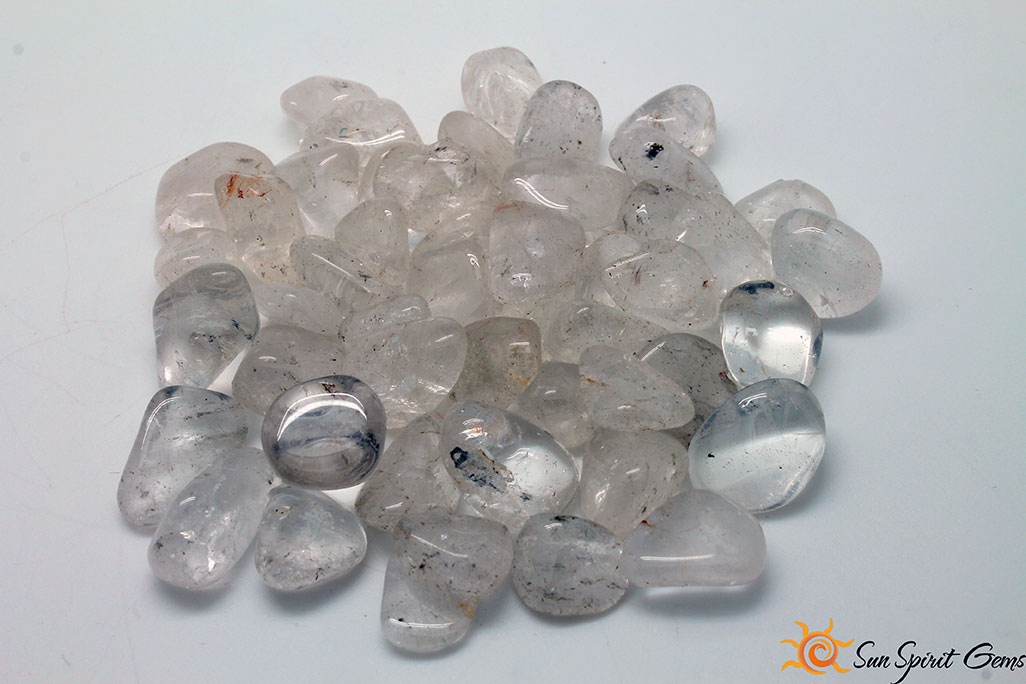Clear_Quartz: (165, 149, 756, 569)
